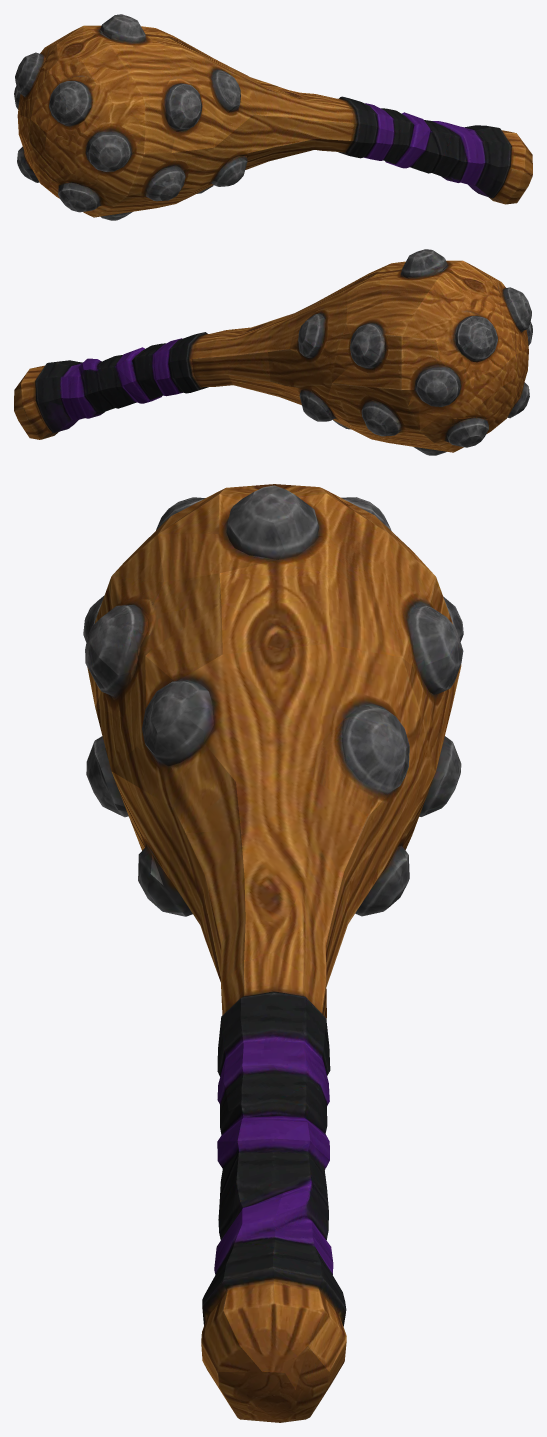
Rendered from bandit-club.hq.glb.
3 renders of one model, top to bottom at view 1: azimuth 30°, elevation 25°; view 2: azimuth 150°, elevation 25°; view 3: azimuth 270°, elevation 25°, orthographic. The views are drawn at different scales.
Parts seen in each view (by area): view 1: output_unwrapped; view 2: output_unwrapped; view 3: output_unwrapped.
Boxes of the visible parts, left/top/right/bottom form: output_unwrapped: left=14, top=14, right=532, bottom=220; output_unwrapped: left=14, top=249, right=532, bottom=455; output_unwrapped: left=83, top=484, right=463, bottom=1422.
Bounding box in the file's own units: 1.88 × 0.9977 × 0.6215.
1 material, 1 textured.
